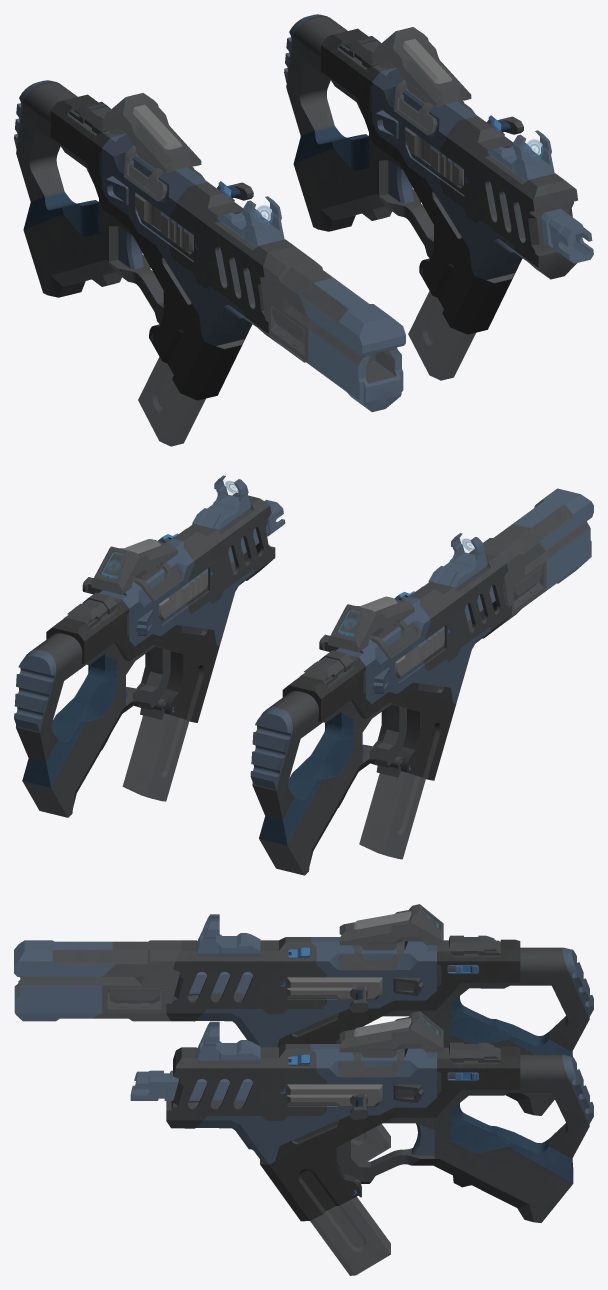
The model's file is smg.glb.
3 renders of one model, top to bottom at view 1: azimuth 30°, elevation 25°; view 2: azimuth 150°, elevation 25°; view 3: azimuth 270°, elevation 25°, orthographic. The views are drawn at different scales.
Parts seen in each view (by area): view 1: Cube.033_low_Body_0, Box.004_low_Attachment_0, Cube.046_low_Handle_0; view 2: Cube.046_low_Handle_0, Cube.033_low_Body_0, Box.004_low_Attachment_0; view 3: Cube.033_low_Body_0, Cube.046_low_Handle_0, Box.004_low_Attachment_0.
Part boxes in pixels (left/top/right/bottom): Cube.033_low_Body_0: left=50, top=28, right=577, bottom=400; Box.004_low_Attachment_0: left=102, top=27, right=593, bottom=446; Cube.046_low_Handle_0: left=14, top=14, right=523, bottom=324; Cube.046_low_Handle_0: left=14, top=533, right=444, bottom=875; Cube.033_low_Body_0: left=46, top=492, right=511, bottom=780; Box.004_low_Attachment_0: left=91, top=475, right=593, bottom=859; Cube.033_low_Body_0: left=166, top=937, right=520, bottom=1221; Cube.046_low_Handle_0: left=287, top=935, right=593, bottom=1222; Box.004_low_Attachment_0: left=14, top=904, right=443, bottom=1275.
Size of the model in its own units: 1.4 by 1.13 by 2.29.
Materials: 3 (3 with a texture image).
